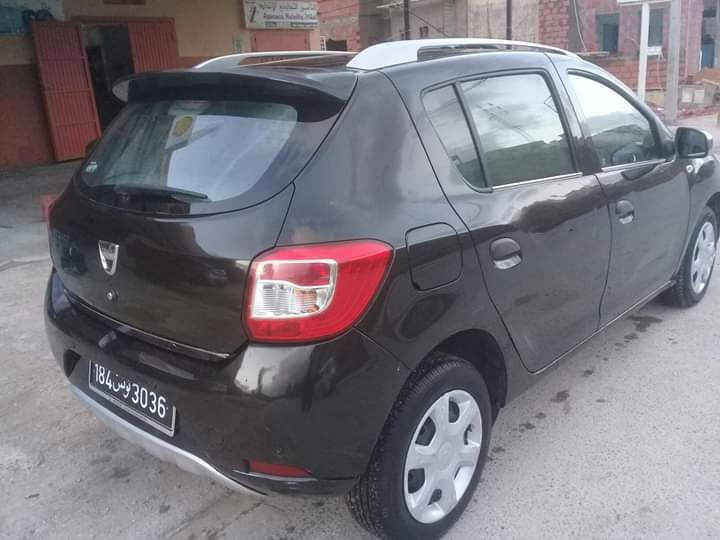LP: (87, 356, 176, 433)
